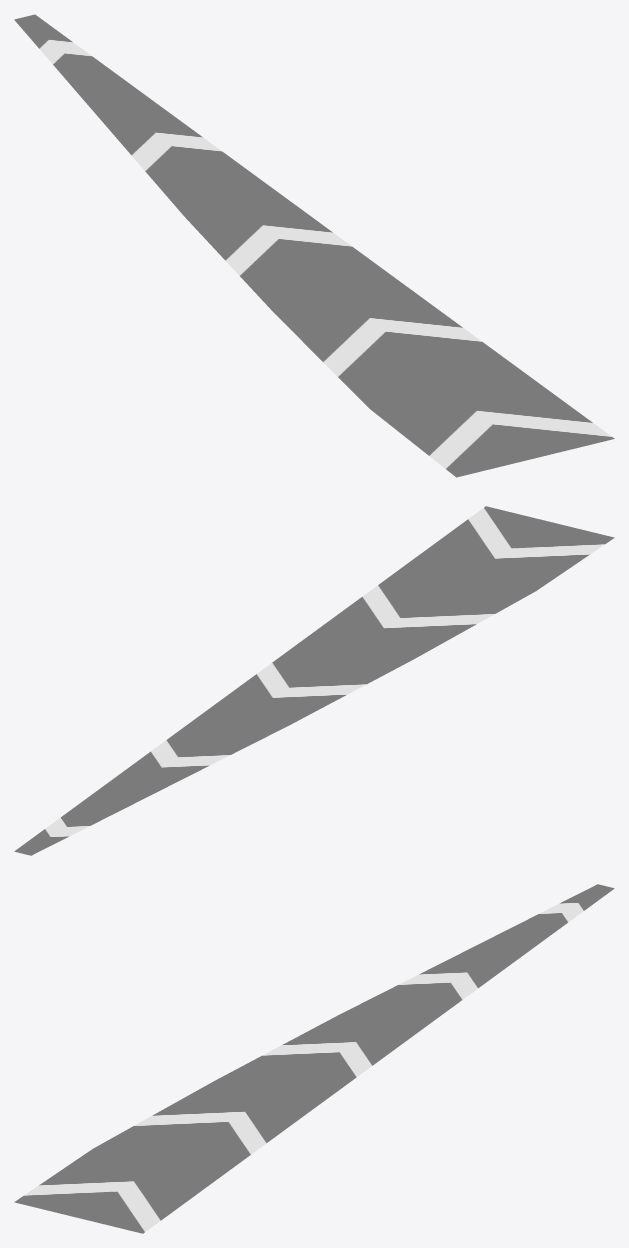
Rendered from Marking_Chevron_Small_Off.fbx.
3 renders of one model, top to bottom at view 1: azimuth 30°, elevation 25°; view 2: azimuth 150°, elevation 25°; view 3: azimuth 330°, elevation 25°, orthographic. The views are drawn at different scales.
Parts seen in each view (by area): view 1: Marking_Chevron_Small_Off; view 2: Marking_Chevron_Small_Off; view 3: Marking_Chevron_Small_Off.
Boxes of the visible parts, box(x1,y1,x2,y2) form: Marking_Chevron_Small_Off: box(14, 14, 614, 477); Marking_Chevron_Small_Off: box(14, 506, 614, 855); Marking_Chevron_Small_Off: box(14, 884, 614, 1233).
Size of the model in its own units: 300 by 1900 by 8.31e-05.
